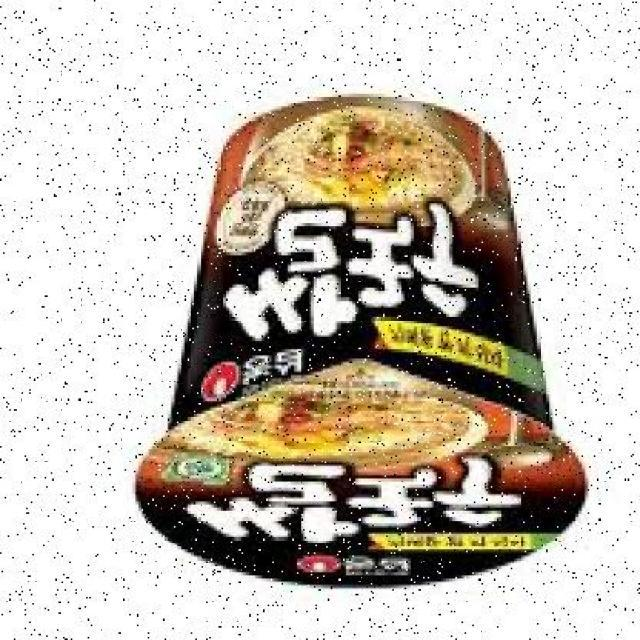Miscellaneous: (142, 90, 582, 596)
